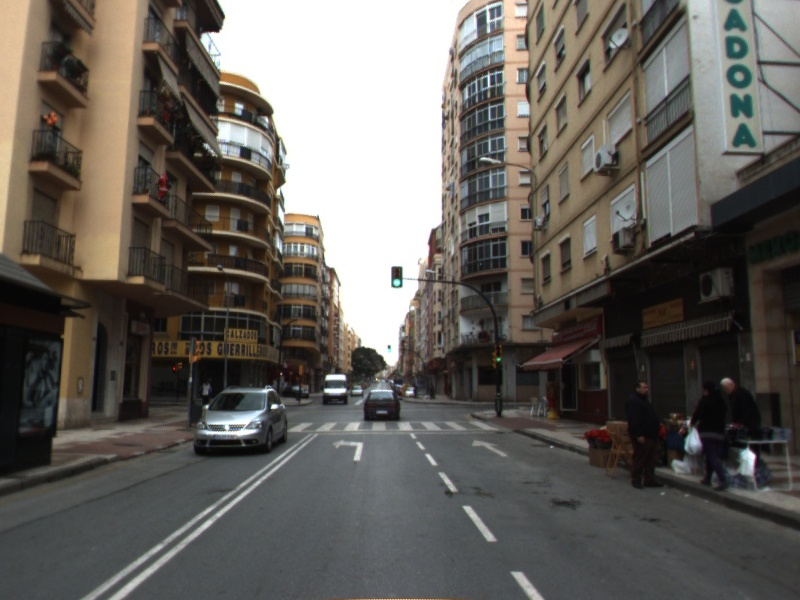LEFT: (331, 437, 365, 462)
STRAIGHT: (471, 438, 509, 458)
